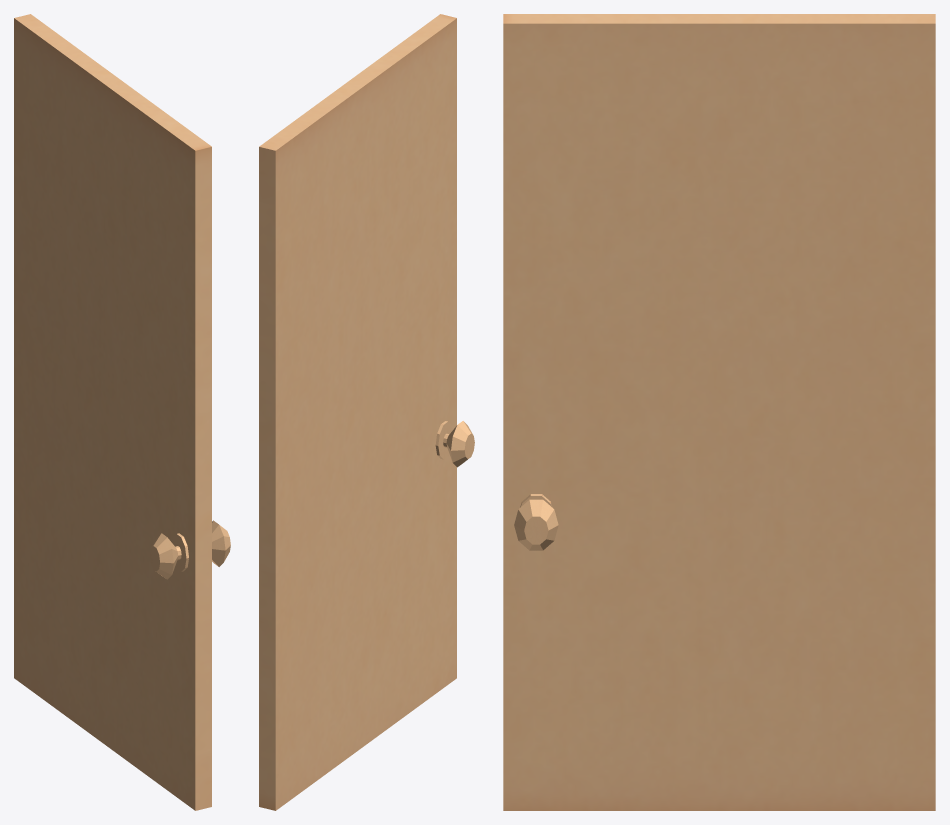
The model's file is Door_Jamb_B.fbx.
3 views of the same model, side by side, from view 1: azimuth 30°, elevation 25°; view 2: azimuth 150°, elevation 25°; view 3: azimuth 270°, elevation 25° (orthographic). The views are drawn at different scales.
Visible parts, largest first — view 1: Door_Jamb_B; view 2: Door_Jamb_B; view 3: Door_Jamb_B.
Boxes of the visible parts, <box> form: Door_Jamb_B: <box>14,14,230,810</box>; Door_Jamb_B: <box>259,14,474,810</box>; Door_Jamb_B: <box>503,14,935,810</box>.
Bounding box in the file's own units: 0.2009 × 1.79 × 0.8918.
